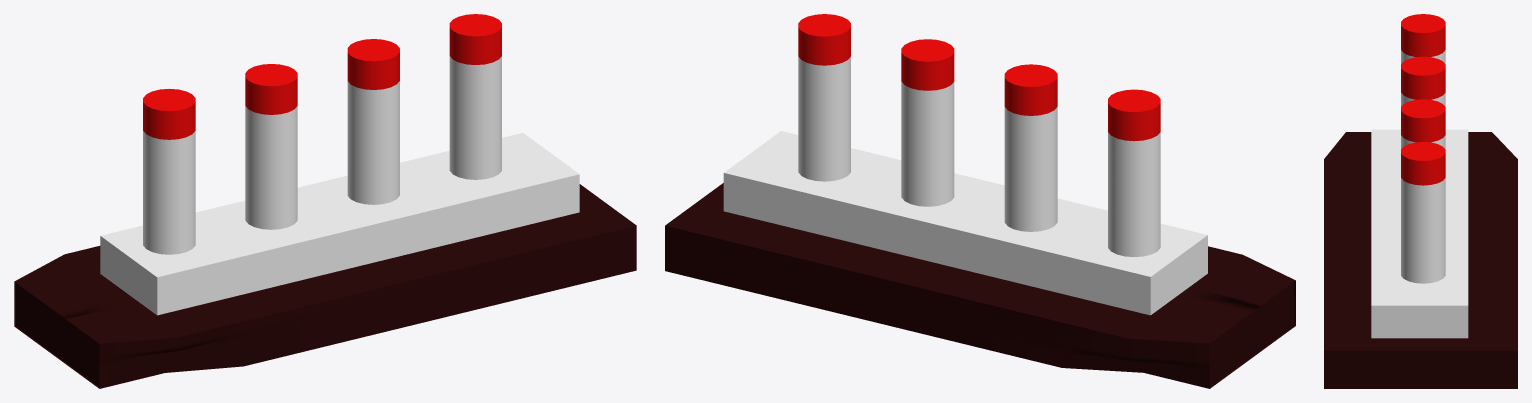
Rendered from boat.obj.
3 views of the same model, side by side, from view 1: azimuth 30°, elevation 25°; view 2: azimuth 150°, elevation 25°; view 3: azimuth 270°, elevation 25° (orthographic). The views are drawn at different scales.
Parts seen in each view (by area): view 1: Box003, Box004, Cylinder002, Cylinder004, Cylinder001, Cylinder003; view 2: Box003, Box004, Cylinder002, Cylinder003, Cylinder004, Cylinder001; view 3: Box003, Box004, Cylinder004, Cylinder003, Cylinder002, Cylinder001.
Boxes of the visible parts, left/top/right/bottom form: Box003: left=14, top=184, right=636, bottom=388; Box004: left=100, top=133, right=579, bottom=315; Cylinder002: left=245, top=64, right=297, bottom=229; Cylinder004: left=449, top=14, right=501, bottom=179; Cylinder001: left=143, top=88, right=195, bottom=254; Cylinder003: left=347, top=39, right=399, bottom=204; Box003: left=665, top=183, right=1295, bottom=388; Box004: left=723, top=131, right=1207, bottom=315; Cylinder002: left=1004, top=64, right=1057, bottom=231; Cylinder003: left=901, top=39, right=954, bottom=206; Cylinder004: left=798, top=14, right=850, bottom=181; Cylinder001: left=1108, top=89, right=1160, bottom=257; Box003: left=1324, top=132, right=1517, bottom=388; Box004: left=1371, top=129, right=1468, bottom=338; Cylinder004: left=1401, top=142, right=1445, bottom=283; Cylinder003: left=1401, top=99, right=1445, bottom=149; Cylinder002: left=1401, top=56, right=1445, bottom=106; Cylinder001: left=1401, top=14, right=1445, bottom=63.
Size of the model in its own units: 80 by 33.23 by 30.
Materials: 3 (2 with a texture image).
